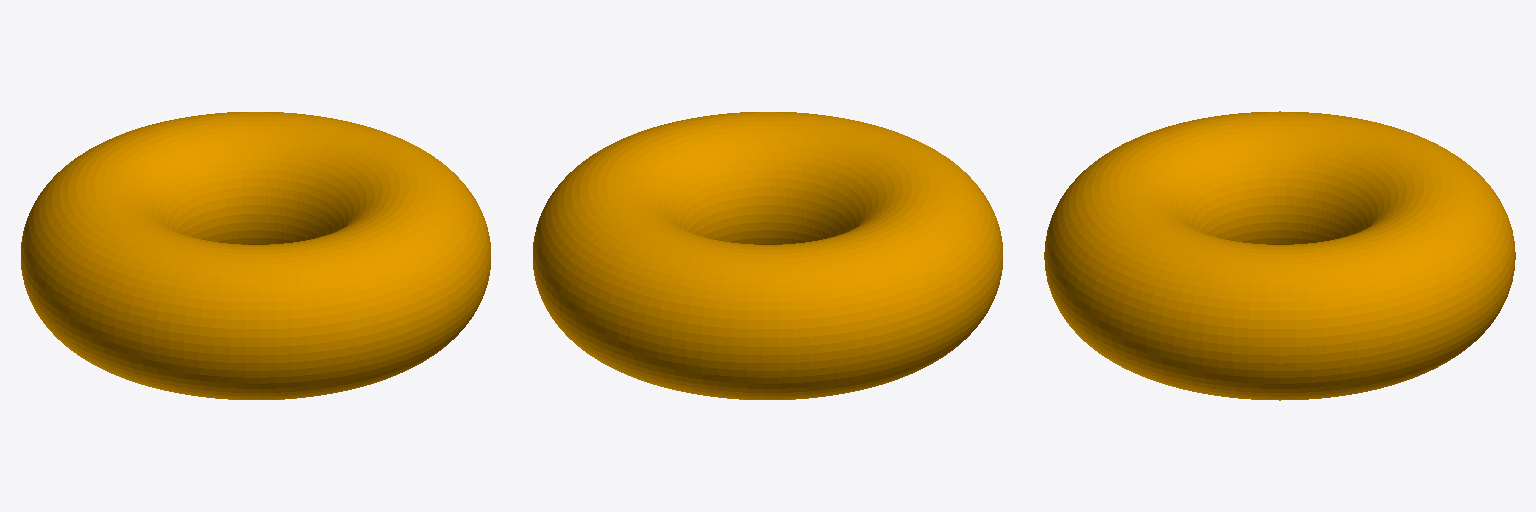
The robot description file, URDF, robot "object":
<?xml version="1.0"?>
<robot name="object">
  <link name="object">
    <visual>
      <origin xyz="0.0 0.0 0.0"/>
      <geometry>
        <mesh filename="torus_large.stl" scale="1.00 1.00 1.00"/>
      </geometry>
    </visual>
    <collision>
      <origin xyz="0.0 0.0 0.0"/>
      <geometry>
        <mesh filename="torus_large.stl" scale="1.00 1.00 1.00"/>
      </geometry>
    </collision>
  </link>
</robot>
    
                    

--- What the picture shows (computed from the rendered views, not written in the file) ---
The picture shows the robot from 3 angles, left to right: view 1: azimuth 30°, elevation 25°; view 2: azimuth 150°, elevation 25°; view 3: azimuth 270°, elevation 25°; orthographic projection.
Model object with 1 links and 0 joints (none), rooted at object, posed every joint at zero.
Visible links, largest first — view 1: object; view 2: object; view 3: object.
Link boxes in pixels (box(x1,y1,x2,y2)): object: box(21, 112, 490, 399); object: box(533, 112, 1002, 399); object: box(1044, 111, 1515, 400).
Size in the robot's own frame: 0.1214 by 0.1213 by 0.04 metres.
Meshes: 1 distinct files referenced, 1 mesh visuals loaded (1 binary STL).
